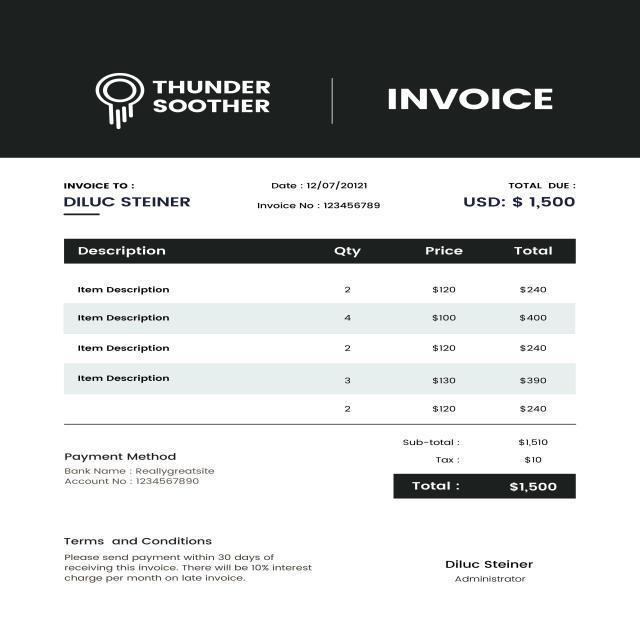paragraph: (58, 530, 317, 591), (394, 430, 568, 498), (58, 447, 220, 495), (382, 78, 559, 119), (148, 73, 277, 120), (254, 179, 385, 212), (60, 178, 193, 210), (460, 178, 581, 212), (438, 555, 542, 588)
table: (66, 239, 573, 423)
